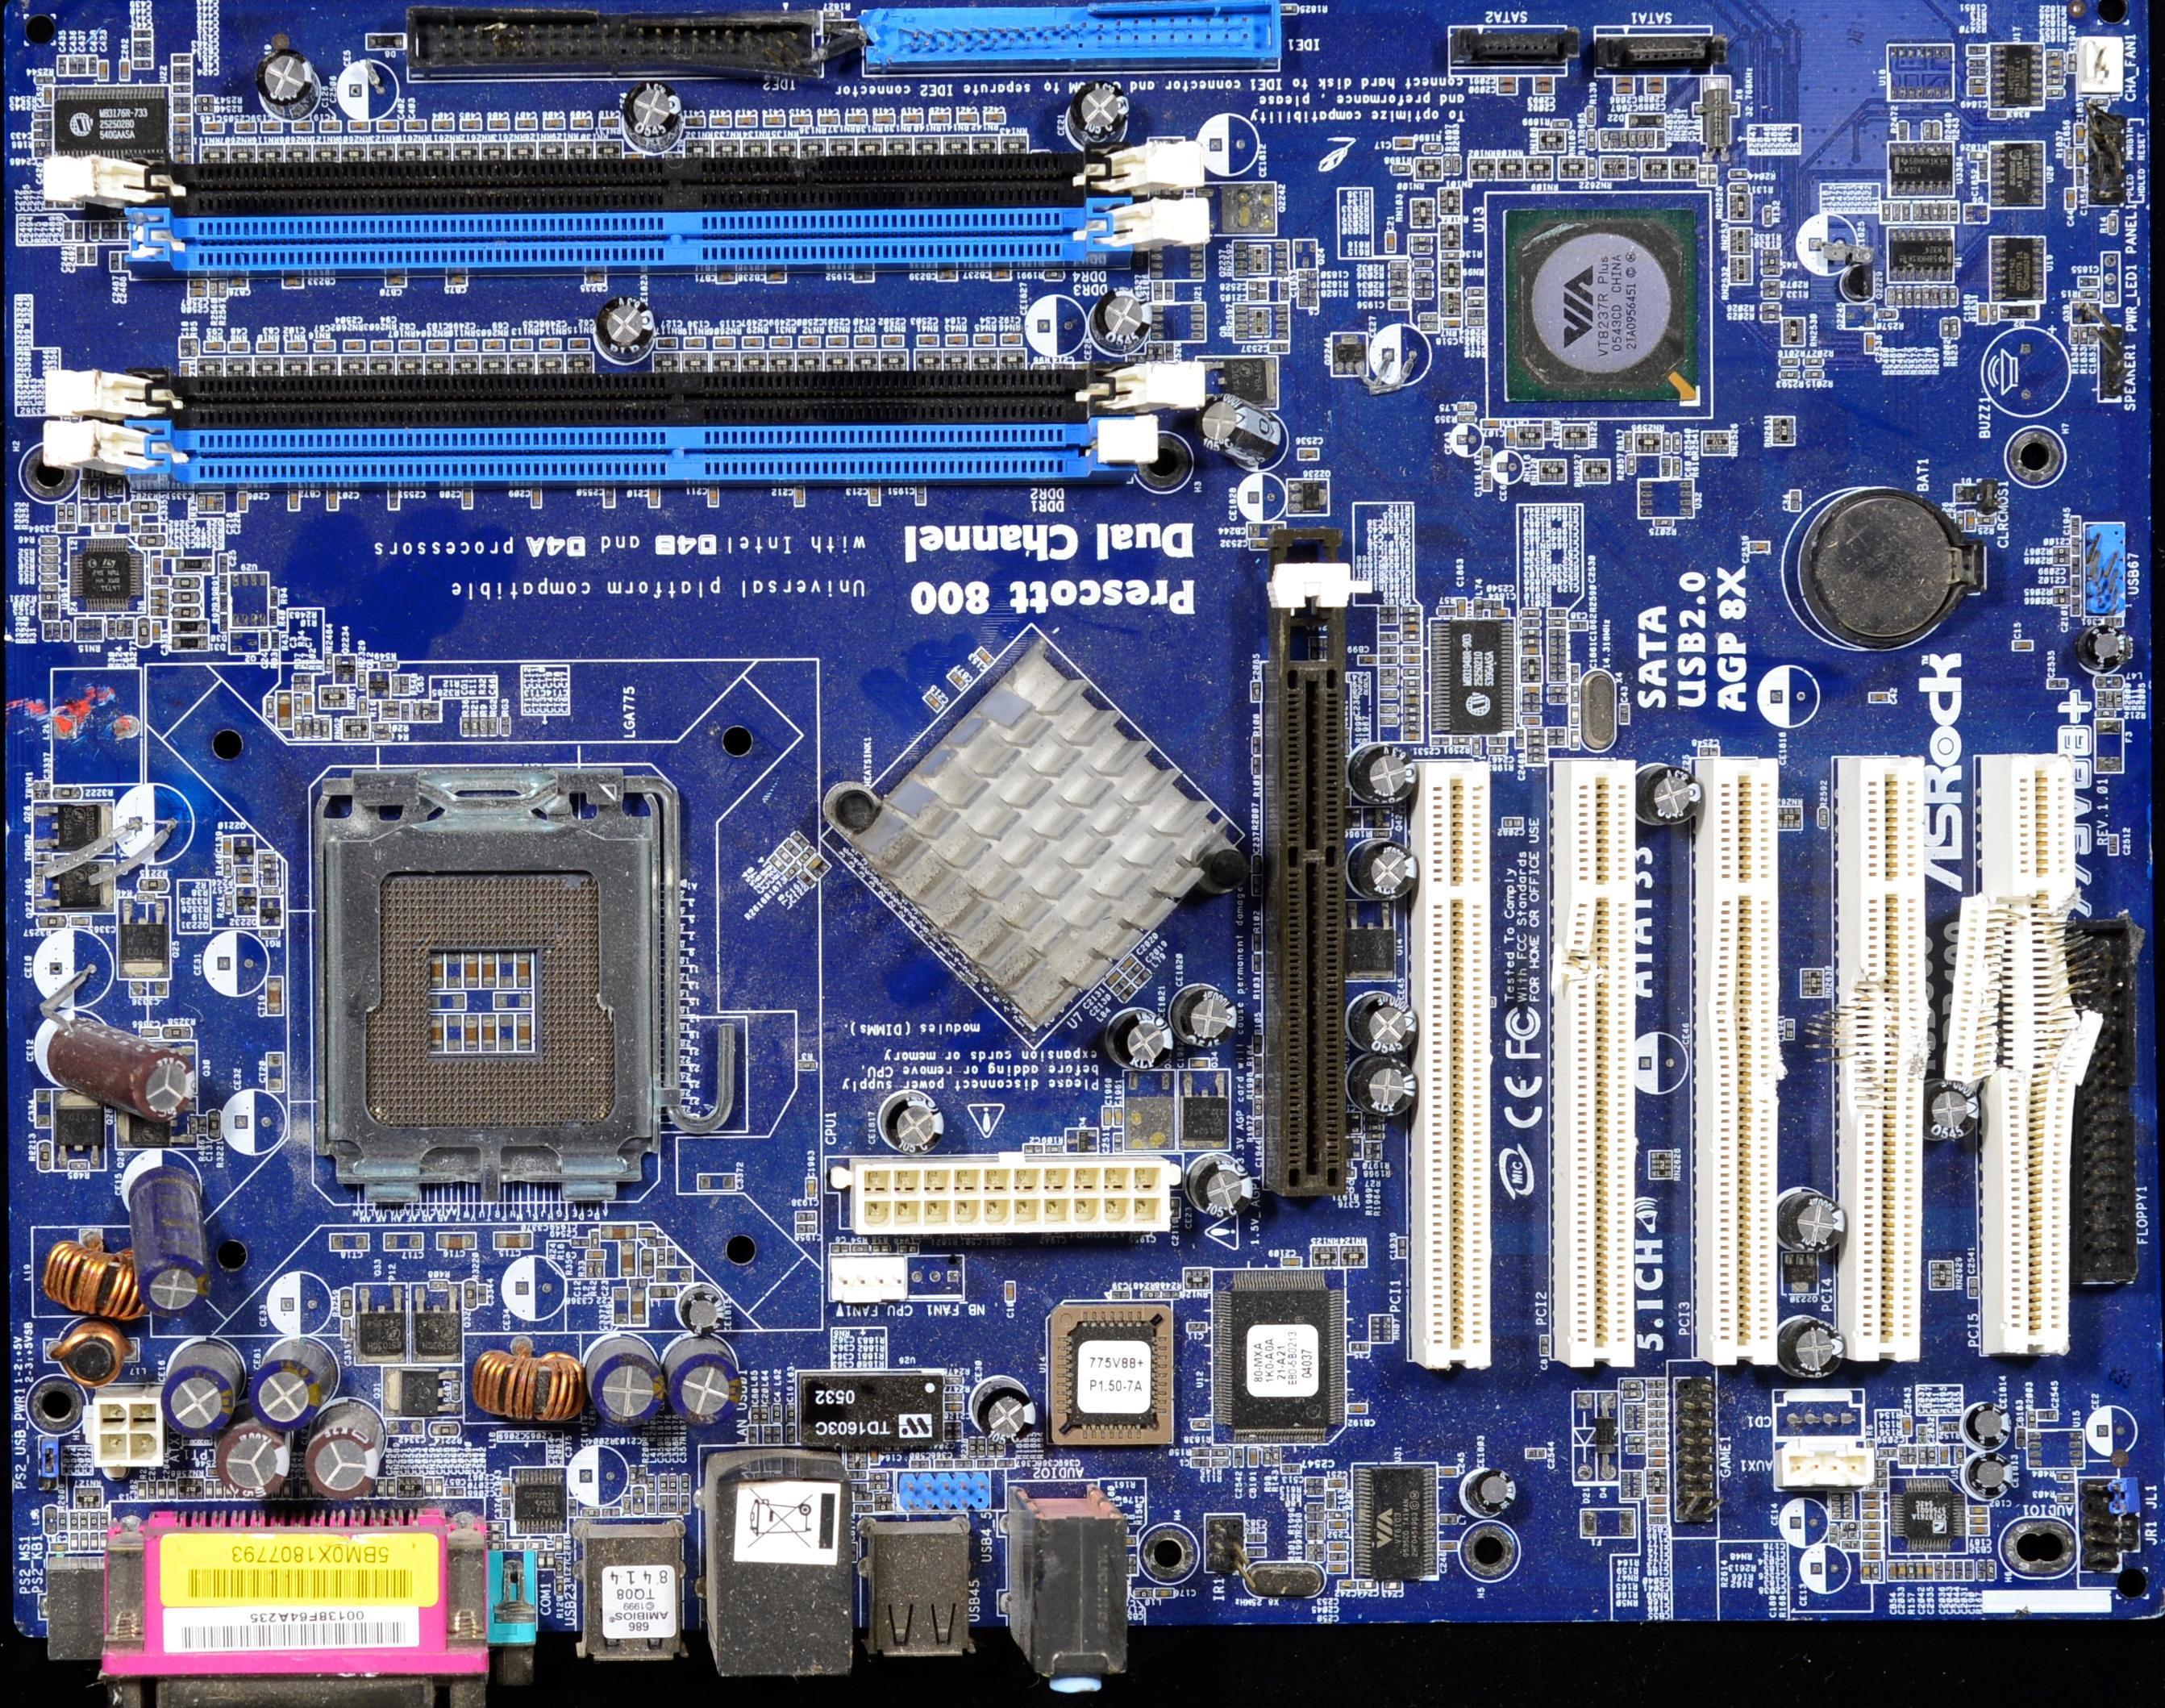Capacitor: (278, 693, 294, 728), (495, 1234, 532, 1248), (631, 1289, 646, 1324), (267, 977, 281, 1014), (439, 1234, 475, 1248), (699, 1176, 734, 1189), (622, 1242, 635, 1277), (602, 1225, 635, 1238), (1393, 138, 1414, 149), (1248, 1448, 1259, 1468), (288, 491, 300, 510), (765, 271, 787, 281), (1358, 1581, 1376, 1593), (543, 119, 564, 130), (1328, 1520, 1349, 1531), (238, 491, 248, 512), (985, 112, 1004, 123), (717, 271, 736, 282), (1751, 540, 1770, 552), (377, 121, 398, 131), (2075, 124, 2085, 144), (1327, 1542, 1347, 1552), (2075, 148, 2086, 169), (2066, 189, 2076, 209), (743, 337, 764, 348), (868, 487, 879, 507), (1968, 1506, 1990, 1515), (1439, 1467, 1458, 1478), (875, 115, 896, 124), (598, 119, 619, 128), (586, 273, 606, 284), (1298, 451, 1319, 460), (572, 119, 593, 128), (1647, 1459, 1667, 1468), (974, 335, 994, 345), (709, 487, 718, 507), (1250, 539, 1270, 549), (489, 119, 508, 130), (236, 123, 255, 133), (937, 269, 956, 280), (1002, 335, 1021, 345), (947, 335, 965, 345), (794, 486, 805, 505), (648, 489, 659, 507), (1326, 1564, 1348, 1573), (120, 60, 129, 81), (1190, 1058, 1209, 1068), (1102, 1107, 1112, 1127), (958, 113, 977, 123), (1903, 1416, 1913, 1435), (424, 1477, 434, 1497), (992, 270, 1011, 280), (462, 489, 472, 509), (327, 490, 337, 510), (2013, 641, 2033, 651), (931, 114, 949, 124), (1155, 1588, 1173, 1598), (1967, 510, 1976, 531), (1114, 1107, 1124, 1126), (904, 115, 922, 124), (686, 117, 705, 127), (435, 120, 453, 130), (1649, 1505, 1667, 1514), (1247, 1534, 1265, 1543), (387, 277, 406, 286), (294, 123, 314, 131), (943, 1402, 964, 1411), (1326, 1478, 1347, 1487), (435, 1477, 443, 1498), (807, 1178, 816, 1198), (737, 117, 756, 126), (1006, 1282, 1015, 1302), (1349, 1404, 1367, 1414), (1970, 1526, 1988, 1535), (50, 1543, 69, 1552), (189, 280, 207, 290), (772, 338, 791, 347), (685, 338, 705, 347), (458, 340, 476, 350), (820, 116, 839, 125), (797, 1213, 815, 1222), (322, 122, 340, 131), (1282, 1258, 1301, 1267), (204, 123, 223, 132), (158, 1481, 167, 1499), (1247, 1548, 1265, 1556), (1338, 1581, 1356, 1589), (448, 277, 467, 285), (1979, 305, 1988, 323), (919, 335, 938, 344), (800, 337, 818, 346), (657, 339, 676, 348), (541, 340, 560, 349), (532, 489, 541, 507), (1499, 85, 1516, 94), (346, 341, 363, 351), (131, 514, 140, 531), (1647, 1497, 1667, 1505), (1482, 419, 1502, 427), (1870, 694, 1890, 702), (869, 1448, 880, 1463), (223, 838, 232, 856), (236, 875, 254, 884), (1534, 85, 1552, 94), (1969, 86, 1987, 95), (847, 115, 865, 124), (792, 116, 810, 125), (766, 116, 784, 125), (797, 1224, 815, 1233), (407, 121, 425, 130), (1863, 1550, 1881, 1559), (1915, 1562, 1924, 1580), (1925, 1562, 1934, 1580), (1862, 1563, 1871, 1581), (1384, 1581, 1402, 1590), (570, 340, 588, 348), (485, 340, 502, 349), (402, 341, 419, 350), (373, 343, 391, 352), (1506, 428, 1515, 446), (206, 494, 215, 511), (152, 623, 161, 640), (1359, 656, 1377, 664), (710, 118, 730, 126), (462, 121, 481, 129), (1190, 1460, 1209, 1468), (1969, 1516, 1988, 1524), (1888, 1562, 1896, 1581), (827, 338, 847, 346), (855, 338, 874, 346), (258, 343, 277, 351), (163, 549, 182, 557), (304, 695, 312, 714), (351, 122, 368, 131), (1898, 1561, 1907, 1578), (716, 338, 733, 347), (1647, 76, 1663, 85), (44, 86, 52, 105), (517, 120, 535, 128), (343, 1319, 351, 1338), (1648, 1450, 1667, 1458), (1941, 1447, 1949, 1465), (1438, 1543, 1457, 1551), (884, 336, 902, 344), (316, 342, 335, 350), (231, 343, 249, 351), (99, 61, 107, 80), (587, 1251, 605, 1259), (263, 123, 281, 131), (174, 126, 192, 134), (138, 1481, 146, 1499), (1863, 1510, 1881, 1518), (1863, 1531, 1880, 1539), (230, 279, 246, 288), (101, 504, 109, 522), (1457, 599, 1465, 617), (151, 608, 169, 616), (2046, 59, 2064, 67), (1535, 76, 1553, 84), (1498, 77, 1516, 85), (1443, 320, 1462, 327), (428, 341, 448, 348), (173, 116, 190, 124), (175, 155, 192, 163), (285, 278, 302, 286), (1866, 335, 1874, 352), (151, 589, 168, 598), (1403, 656, 1420, 664), (1523, 686, 1540, 694), (639, 1230, 657, 1237), (377, 1479, 385, 1498), (1863, 1542, 1881, 1549), (1388, 232, 1395, 251), (1647, 85, 1663, 94), (514, 341, 530, 349), (152, 559, 160, 575), (151, 598, 167, 606), (1403, 624, 1419, 632), (1862, 1502, 1880, 1509), (556, 1536, 563, 1554), (287, 342, 305, 349), (120, 506, 128, 521), (1523, 647, 1538, 655), (1616, 85, 1633, 93), (787, 1405, 794, 1422), (773, 1406, 781, 1423), (1863, 1492, 1880, 1499), (1492, 610, 1509, 617), (1522, 717, 1539, 724), (1614, 77, 1633, 84), (752, 1408, 760, 1424), (761, 1408, 768, 1424), (190, 290, 206, 297), (206, 343, 223, 350), (502, 1480, 509, 1498), (1405, 698, 1420, 705), (181, 364, 189, 377), (206, 1468, 221, 1476), (1863, 1522, 1881, 1527), (1405, 734, 1420, 740)
Connector: (102, 1523, 509, 1708), (143, 202, 1139, 266), (148, 363, 1116, 423), (148, 423, 1112, 484), (1547, 762, 1641, 1355), (1692, 754, 1778, 1367), (1978, 758, 2064, 1359), (1832, 754, 1914, 1367), (1413, 762, 1492, 1359), (127, 161, 1124, 206), (1276, 581, 1342, 1214), (706, 1460, 860, 1708), (409, 12, 825, 78), (1003, 1489, 1122, 1697), (568, 1523, 685, 1680), (870, 1522, 962, 1676)
IC: (1218, 1270, 1343, 1432), (1047, 1297, 1180, 1443), (1355, 1466, 1440, 1581), (55, 88, 172, 155), (61, 529, 147, 611), (1890, 1476, 1968, 1553), (1888, 140, 1955, 201), (1988, 235, 2046, 302), (1988, 140, 2044, 207), (1992, 43, 2046, 109), (1889, 227, 1952, 283)
Resistor: (52, 786, 81, 800), (39, 1142, 52, 1170), (464, 1281, 478, 1309), (172, 591, 200, 604), (208, 1112, 221, 1139), (431, 1423, 458, 1436), (138, 618, 151, 645), (162, 1027, 191, 1039), (340, 1289, 352, 1318), (131, 501, 157, 514), (173, 577, 200, 589), (139, 879, 166, 891), (174, 606, 200, 618), (40, 917, 67, 927), (138, 535, 165, 546), (1625, 454, 1637, 476), (2107, 215, 2118, 235), (1585, 106, 1596, 127), (69, 1512, 80, 1531), (1391, 165, 1412, 174), (1457, 413, 1476, 423), (294, 695, 302, 719), (1325, 1511, 1347, 1520), (977, 1439, 987, 1458), (2057, 1493, 2076, 1503), (2080, 290, 2100, 300), (359, 698, 368, 718), (321, 720, 331, 739), (1364, 1131, 1385, 1140), (304, 717, 312, 739), (797, 1060, 816, 1070), (431, 1281, 449, 1290), (875, 1493, 893, 1503), (1468, 315, 1486, 325), (1780, 356, 1799, 366), (1805, 357, 1824, 367), (488, 715, 498, 734), (137, 894, 157, 903), (79, 1511, 88, 1531), (1764, 206, 1773, 227), (1625, 431, 1634, 451), (1673, 456, 1682, 477), (381, 710, 402, 719), (1819, 807, 1828, 827), (1628, 1435, 1646, 1444), (1955, 1446, 1965, 1464), (1262, 1448, 1272, 1465), (90, 1513, 99, 1531), (1452, 155, 1461, 174), (1654, 519, 1673, 527), (1522, 628, 1542, 637), (357, 671, 366, 690), (381, 701, 401, 710), (1403, 723, 1421, 733), (1043, 271, 1064, 279), (1404, 714, 1420, 724), (198, 1116, 207, 1135), (189, 1117, 198, 1135), (1624, 1389, 1642, 1398), (100, 1511, 109, 1530), (1443, 156, 1451, 174), (1930, 202, 1939, 221), (1763, 266, 1781, 275), (1913, 288, 1922, 306), (1878, 310, 1896, 319), (1949, 319, 1958, 338), (1956, 512, 1965, 531), (470, 716, 479, 735), (371, 723, 389, 732), (34, 877, 44, 894), (1922, 123, 1932, 140), (1882, 203, 1892, 220), (968, 1437, 976, 1457), (1663, 434, 1672, 454), (69, 1161, 87, 1170), (1931, 123, 1940, 140), (944, 1376, 962, 1385), (1624, 1381, 1642, 1389), (1586, 130, 1595, 148), (1193, 1419, 1211, 1428), (581, 1509, 599, 1518), (555, 1578, 564, 1596), (1135, 1589, 1153, 1598), (1729, 170, 1747, 179), (1902, 203, 1911, 221), (1468, 287, 1485, 296), (2079, 327, 2088, 344), (1977, 515, 1995, 524), (40, 536, 58, 545), (1365, 1124, 1384, 1132), (1272, 1447, 1280, 1466), (148, 1483, 157, 1499), (1988, 1561, 1996, 1581), (502, 718, 510, 737), (1527, 736, 1543, 746), (35, 76, 55, 84), (266, 697, 273, 718), (1553, 120, 1570, 129), (1638, 131, 1647, 148), (1647, 131, 1655, 148), (2056, 1473, 2073, 1481), (646, 1476, 655, 1493), (555, 1559, 564, 1576), (1896, 287, 1905, 304), (461, 718, 470, 735), (1472, 738, 1481, 755), (1045, 1145, 1064, 1153), (1143, 1291, 1161, 1299), (2028, 1410, 2036, 1428), (34, 140, 52, 148), (1211, 1459, 1230, 1467), (869, 1481, 888, 1489), (1588, 160, 1597, 178), (1921, 202, 1930, 221), (1761, 256, 1780, 265), (1922, 286, 1930, 305), (1762, 312, 1780, 320), (191, 339, 199, 357), (198, 494, 206, 512), (41, 564, 60, 572), (414, 702, 422, 721), (480, 717, 488, 735), (226, 894, 233, 914), (1389, 279, 1409, 286), (1521, 639, 1541, 646), (259, 863, 277, 871), (1254, 1078, 1263, 1094), (1731, 184, 1749, 192), (1763, 290, 1781, 298), (1930, 287, 1938, 305), (1941, 319, 1949, 336), (1805, 371, 1823, 379), (2046, 51, 2063, 59), (2052, 587, 2070, 595), (40, 594, 58, 602), (1403, 606, 1421, 614), (1527, 744, 1543, 753), (1526, 755, 1543, 763), (1968, 77, 1988, 85), (1389, 290, 1408, 297), (58, 504, 65, 523), (1280, 5, 1297, 13), (1192, 1448, 1209, 1456), (1919, 1447, 1927, 1464), (1928, 1448, 1936, 1464), (669, 1476, 677, 1493), (1940, 202, 1948, 219), (1763, 280, 1780, 288), (210, 281, 218, 298), (219, 281, 227, 298), (1940, 289, 1948, 306), (1949, 289, 1957, 306), (2071, 327, 2079, 344), (40, 556, 57, 564), (2053, 596, 2070, 604), (1522, 610, 1538, 618), (1548, 619, 1565, 627), (1405, 706, 1422, 714), (1452, 737, 1469, 745), (1528, 728, 1543, 737), (681, 1474, 688, 1493), (1467, 298, 1485, 306), (1762, 304, 1780, 311), (1402, 616, 1421, 623), (313, 719, 320, 738), (296, 720, 303, 739), (373, 733, 392, 740), (198, 96, 214, 104), (586, 1261, 594, 1277), (1405, 668, 1421, 676), (223, 858, 231, 876), (630, 1467, 637, 1485), (660, 1475, 667, 1493), (623, 1495, 631, 1513), (874, 1503, 892, 1510), (1908, 1561, 1915, 1579), (2066, 150, 2073, 168), (40, 547, 58, 554), (40, 575, 58, 582), (2096, 710, 2114, 717), (591, 1232, 599, 1248), (1782, 371, 1797, 379), (2054, 548, 2069, 556), (2054, 556, 2069, 564), (2046, 77, 2063, 85), (596, 1260, 603, 1277), (869, 1473, 886, 1481), (1906, 288, 1913, 305), (41, 585, 58, 593), (118, 620, 125, 637), (1403, 633, 1420, 640), (2046, 69, 2063, 76), (1489, 747, 1506, 754), (2046, 89, 2063, 96), (198, 106, 214, 113), (59, 1513, 66, 1529), (1971, 152, 1987, 160), (68, 505, 75, 521), (2115, 690, 2122, 706), (2106, 691, 2113, 707), (1951, 203, 1957, 221), (259, 855, 276, 861), (1213, 1449, 1230, 1456), (325, 655, 331, 672), (1404, 680, 1421, 686), (1763, 249, 1780, 256), (381, 661, 398, 668), (1255, 1098, 1262, 1114), (1405, 689, 1420, 695)
Transistor: (31, 802, 118, 857), (119, 897, 174, 978), (410, 1282, 464, 1363), (360, 1282, 408, 1368), (36, 862, 113, 906)
